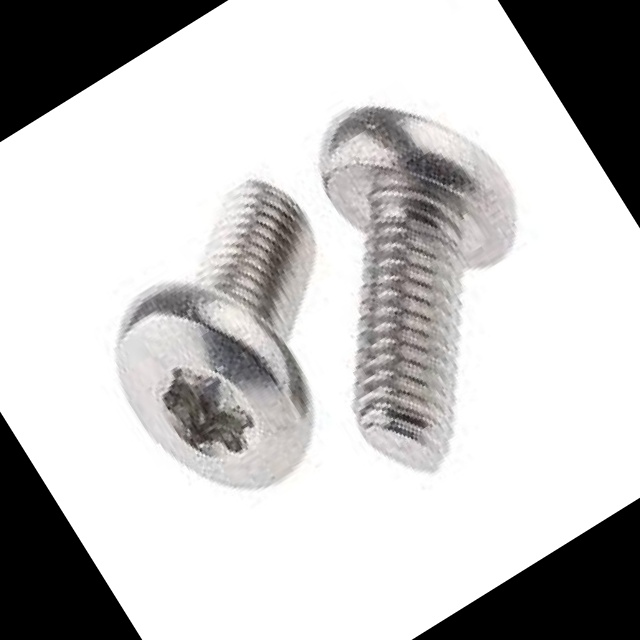torx: (79, 240, 348, 531)
